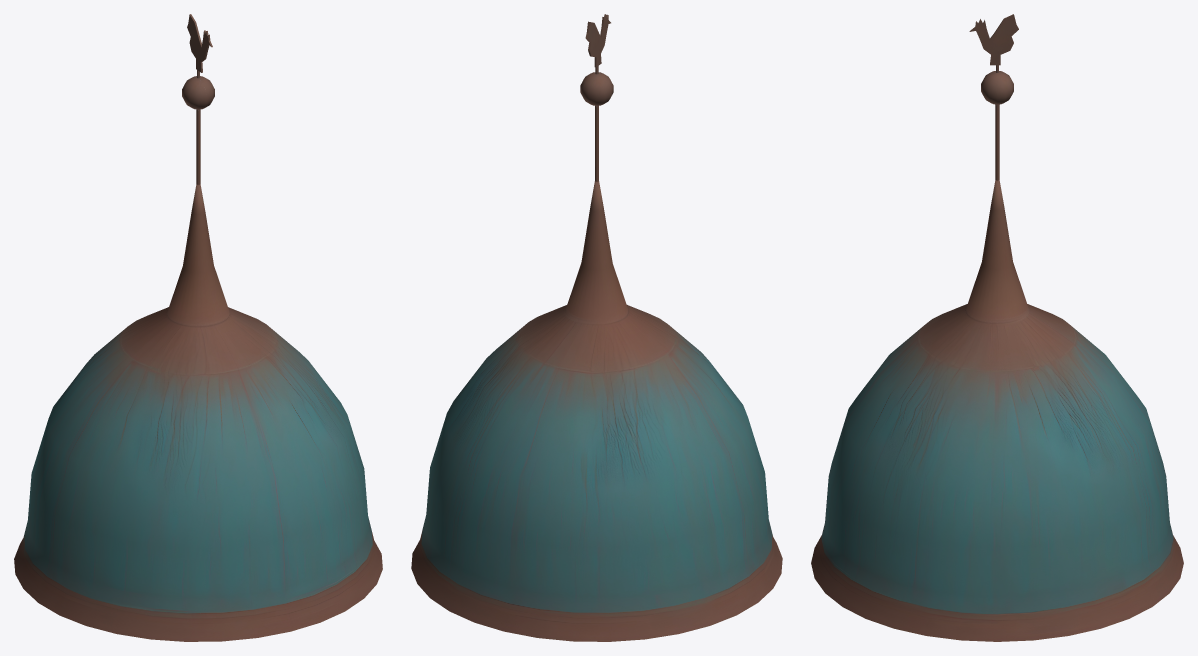
The model's file is dom_evangelisch_haube_tripo.glb.
3 renders of one model, left to right at view 1: azimuth 30°, elevation 25°; view 2: azimuth 150°, elevation 25°; view 3: azimuth 270°, elevation 25°, orthographic.
Visible parts, largest first — view 1: Haube; view 2: Haube; view 3: Haube.
Part boxes in pixels (left/top/right/bottom): Haube: left=14, top=14, right=382, bottom=641; Haube: left=411, top=14, right=782, bottom=641; Haube: left=811, top=14, right=1183, bottom=641.
Bounding box in the file's own units: 0.6158 × 1 × 0.6158.
Materials: 1 (1 with a texture image).
